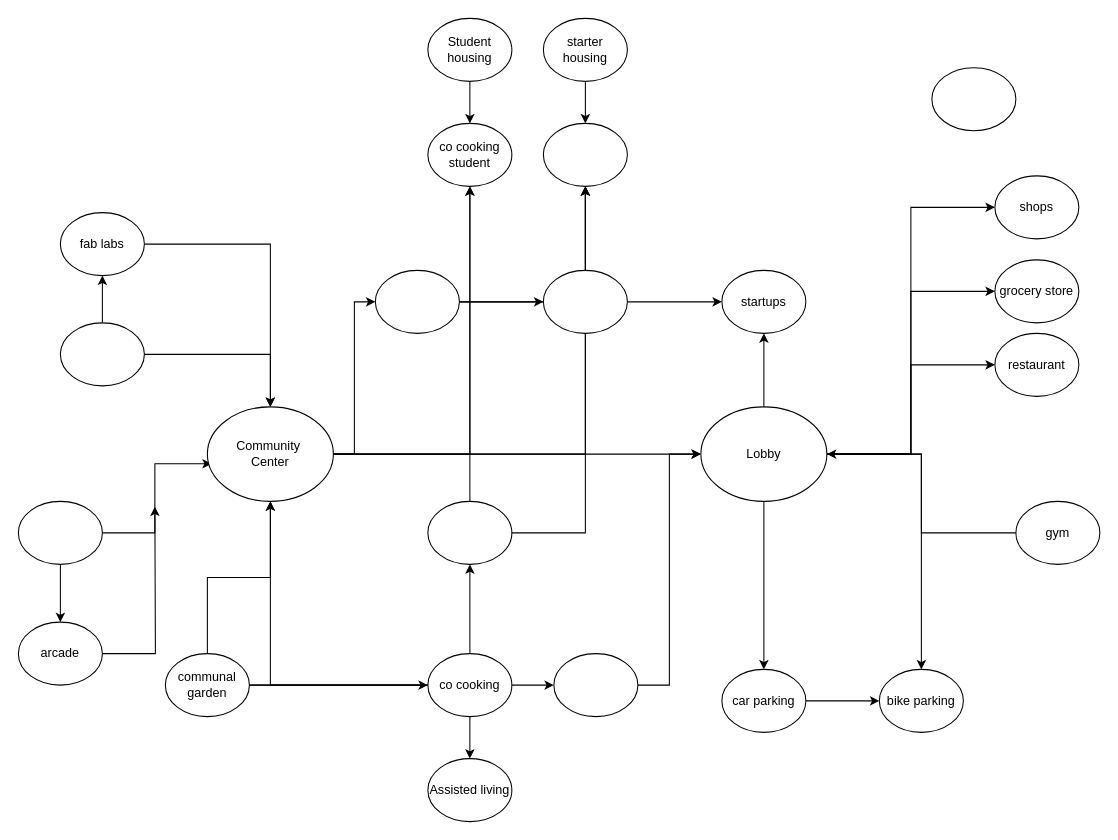
Image size: 1118x840. Some labels were removed from this diagram. The shapes that lost their labels are listed below. From the top down, each one's centre as x and y in pixels, then its label:
(973,99): external
(584,154): co cooking starter
(416,301): library
(584,301): co working
(101,354): workshop
(59,532): cinematheque
(469,532): laundry
(595,685): drugstore
